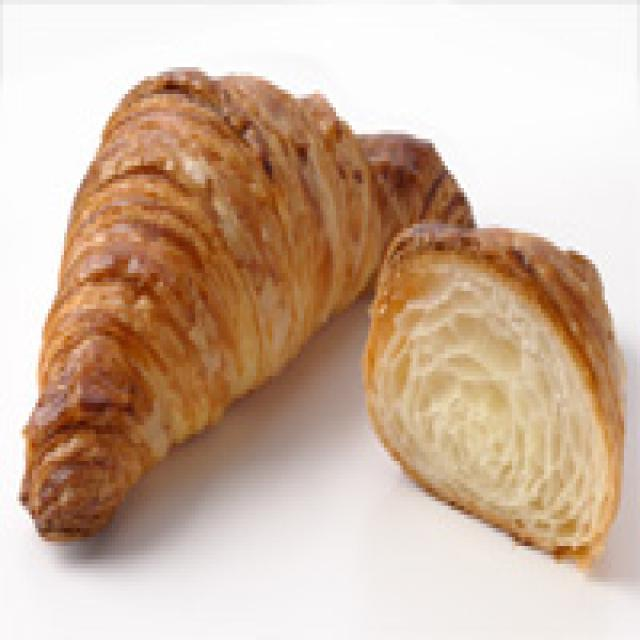Croissant: (17, 44, 474, 554)
